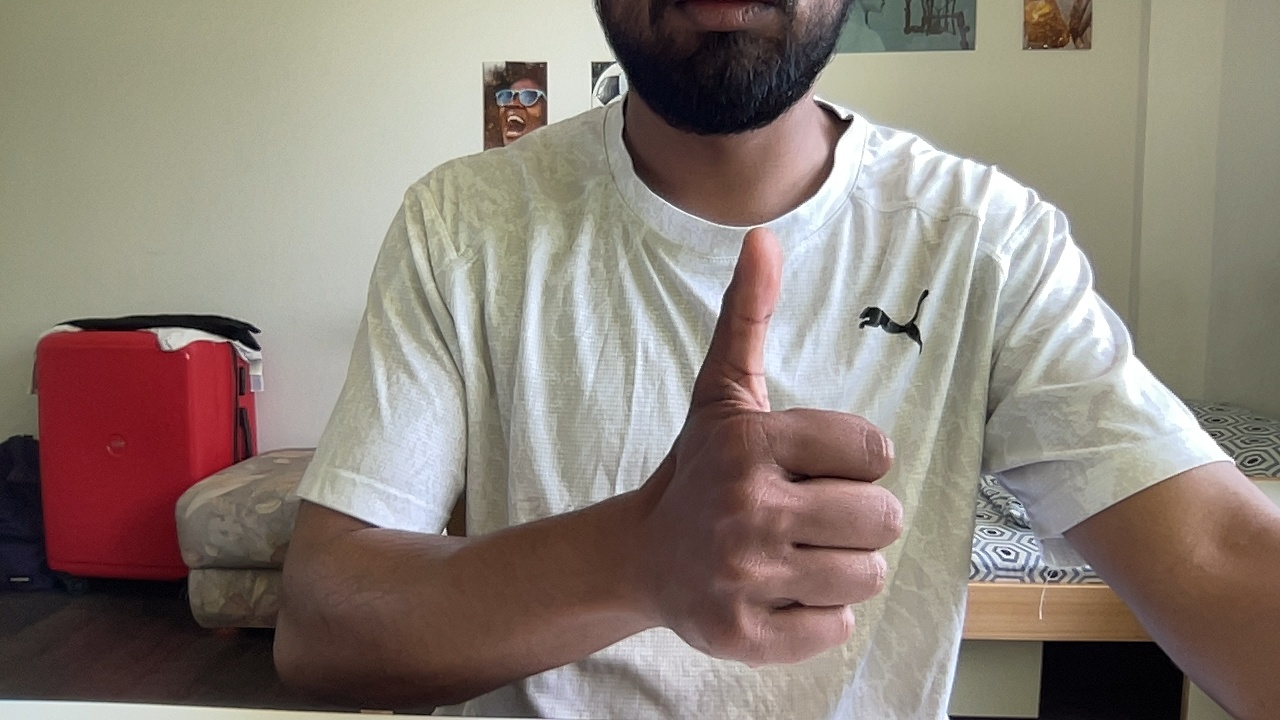ThumbsUp: (649, 226, 903, 669)
